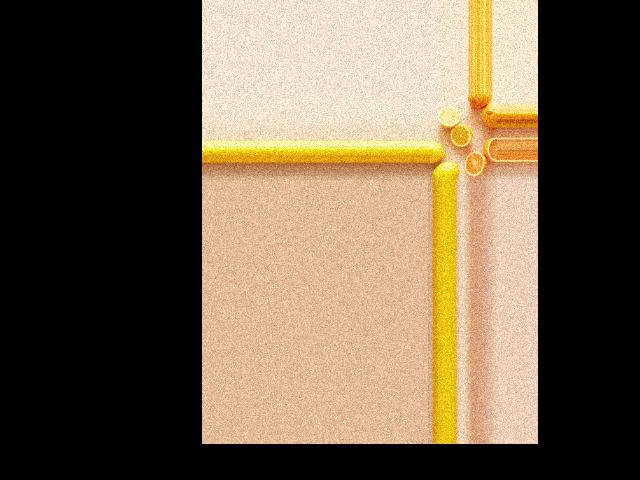lemon: (465, 93, 493, 112)
